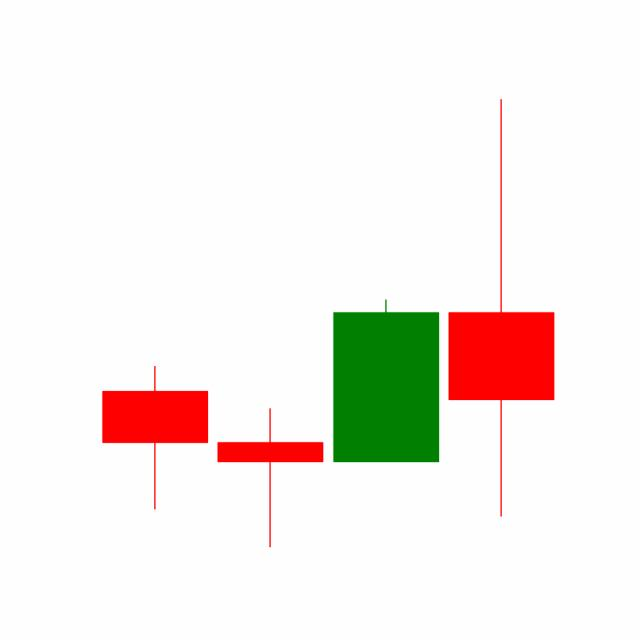Marubozu: (328, 298, 444, 464)
